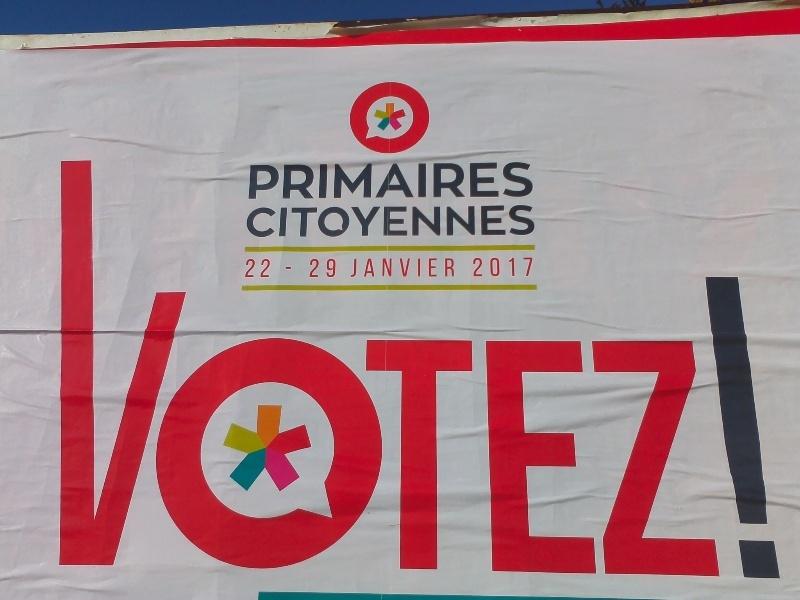text: (769, 155, 785, 583), (65, 155, 80, 583), (81, 155, 96, 583), (97, 155, 112, 583), (113, 155, 128, 583), (129, 155, 144, 583), (145, 155, 160, 583), (161, 155, 176, 583), (177, 155, 192, 583), (193, 155, 208, 583), (209, 155, 224, 583), (225, 155, 240, 583), (241, 155, 256, 583), (257, 155, 272, 583), (273, 155, 288, 583), (289, 155, 304, 583), (305, 155, 320, 583), (321, 155, 336, 583), (337, 155, 352, 583), (353, 155, 368, 583), (369, 155, 384, 583), (385, 155, 400, 583), (401, 155, 416, 583), (417, 155, 432, 583), (433, 155, 448, 583), (449, 155, 464, 583), (465, 155, 480, 583), (481, 155, 496, 583), (497, 155, 512, 583), (513, 155, 528, 583), (529, 155, 544, 583), (545, 155, 560, 583), (561, 155, 576, 583), (577, 155, 592, 583), (593, 155, 608, 583), (609, 155, 624, 583), (625, 155, 640, 583), (641, 155, 656, 583), (657, 155, 672, 583), (673, 155, 688, 583), (689, 155, 704, 583), (705, 155, 720, 583), (721, 155, 736, 583), (737, 155, 752, 583), (753, 155, 768, 583), (56, 155, 64, 583), (257, 159, 272, 201), (273, 159, 288, 201), (289, 159, 304, 201), (305, 159, 320, 201), (321, 159, 336, 201), (337, 159, 352, 201), (353, 159, 368, 201), (369, 159, 384, 201), (385, 159, 400, 201), (401, 159, 416, 201), (417, 159, 432, 201), (433, 159, 448, 201), (449, 159, 464, 201), (465, 159, 480, 201), (481, 159, 496, 201), (497, 159, 512, 201), (513, 159, 528, 201), (257, 206, 272, 238), (273, 206, 288, 238), (289, 206, 304, 238), (305, 206, 320, 238), (321, 206, 336, 238), (337, 206, 352, 238), (353, 206, 368, 238), (369, 206, 384, 238), (385, 206, 400, 238), (401, 206, 416, 238), (417, 206, 432, 238), (433, 206, 448, 238), (449, 206, 464, 238), (465, 206, 480, 238), (481, 206, 496, 238), (497, 206, 512, 238), (513, 206, 528, 238), (481, 255, 496, 277), (497, 255, 512, 277), (513, 255, 528, 277), (246, 206, 256, 238), (257, 259, 272, 280), (321, 258, 336, 279), (353, 258, 368, 279), (369, 258, 384, 279), (385, 258, 400, 279), (401, 258, 416, 279), (417, 258, 432, 279), (433, 258, 448, 279), (249, 159, 256, 201), (529, 159, 535, 201), (308, 258, 320, 279), (245, 259, 256, 280), (529, 206, 536, 238), (472, 255, 480, 277), (529, 255, 536, 277), (449, 258, 456, 279), (284, 264, 288, 272), (289, 264, 293, 272), (337, 258, 338, 279), (351, 258, 352, 279)
